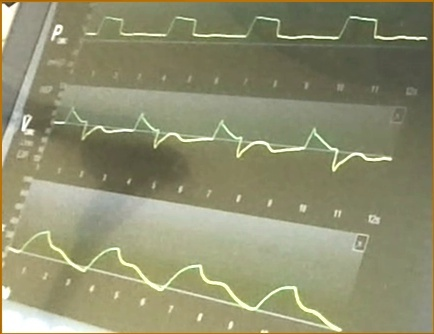Premature_cycling Flow: (57, 104, 391, 174)
Premature_cycling Volume: (12, 227, 343, 332)
